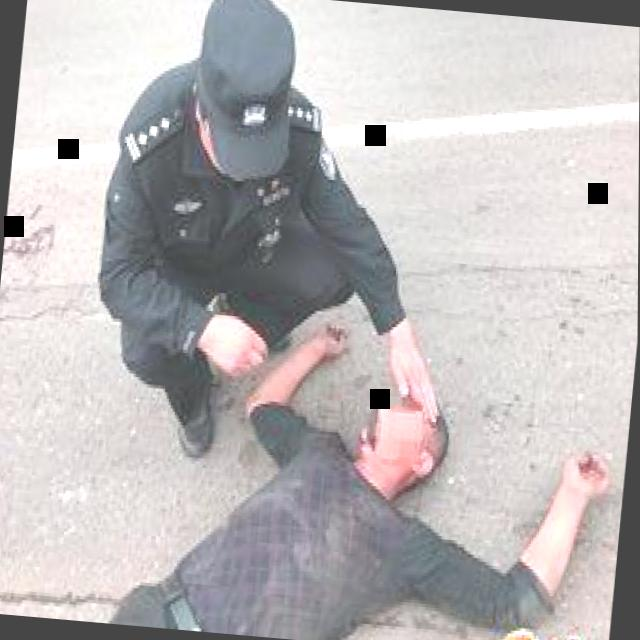Fall-Detected: (14, 274, 634, 640)
